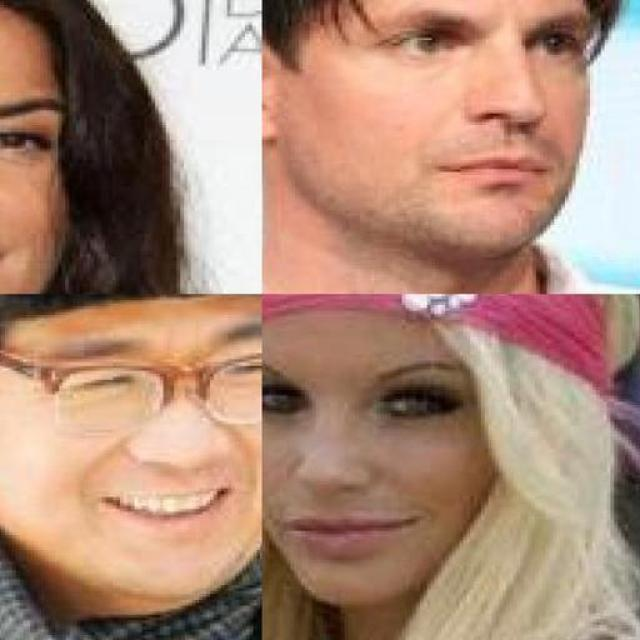bareface: (288, 3, 594, 274)
